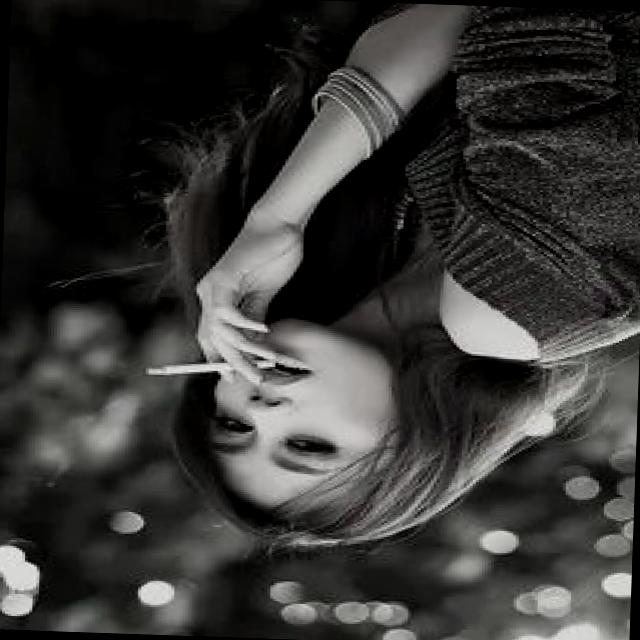smoke: (136, 346, 282, 380)
